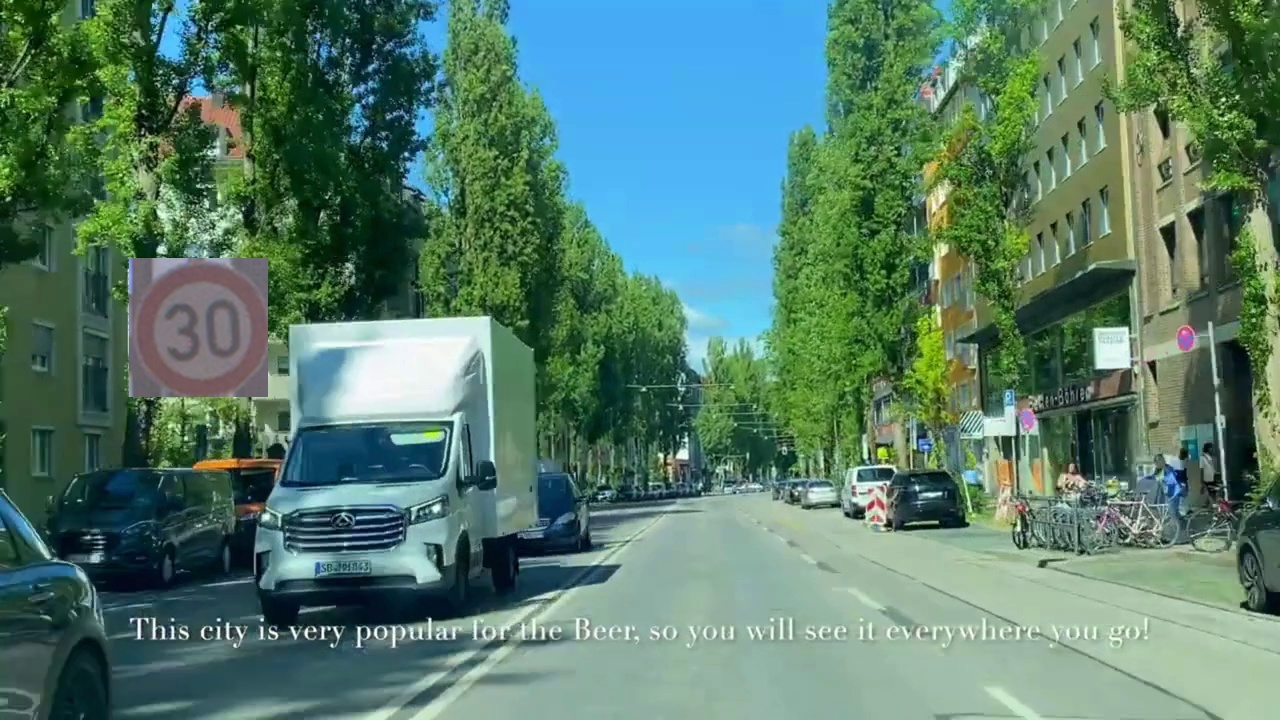Speed 30: (129, 258, 268, 397)
